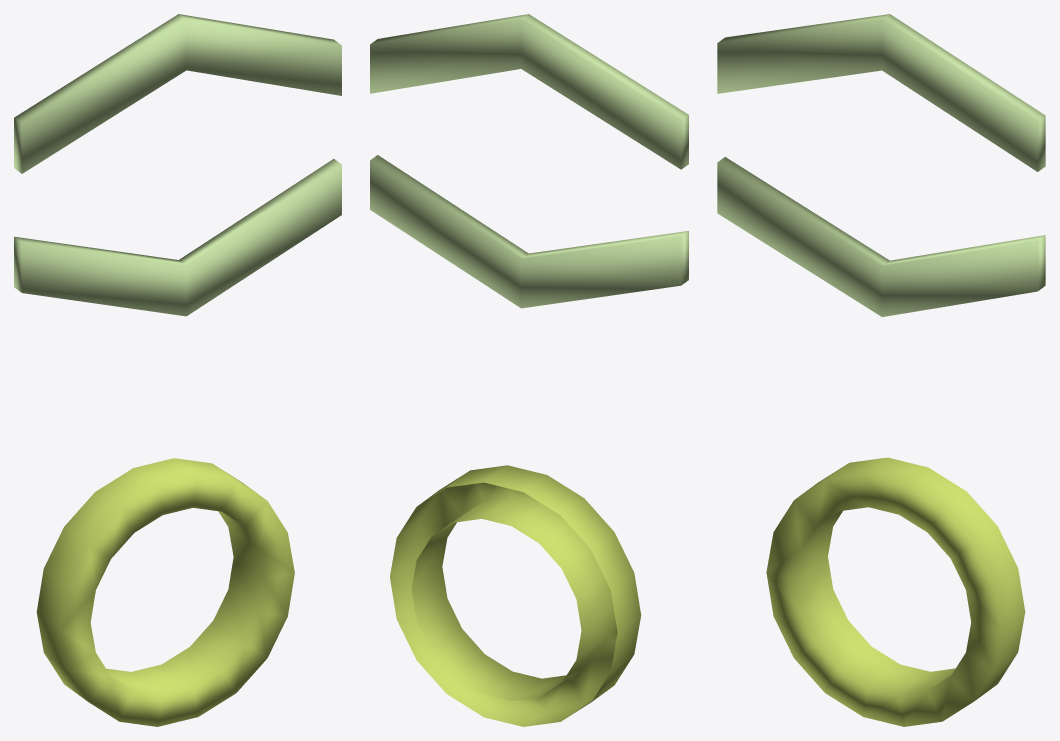
Rendered from modelo.OBJ.
The picture shows the model from 3 angles, left to right: view 1: azimuth 30°, elevation 25°; view 2: azimuth 150°, elevation 25°; view 3: azimuth 330°, elevation 25°; orthographic projection. The views are drawn at different scales.
Visible parts, largest first — view 1: Cylinder001, Box011, Box010; view 2: Cylinder001, Box010, Box011; view 3: Cylinder001, Box011, Box010.
Boxes of the visible parts, <box> form: Cylinder001: <box>36,458,294,726</box>; Box011: <box>14,159,341,316</box>; Box010: <box>14,14,341,173</box>; Cylinder001: <box>390,465,641,726</box>; Box010: <box>370,14,688,169</box>; Box011: <box>370,155,688,308</box>; Cylinder001: <box>766,457,1025,726</box>; Box011: <box>717,157,1045,316</box>; Box010: <box>717,14,1045,171</box>.
Size of the model in its own units: 59.71 by 126 by 11.88.
